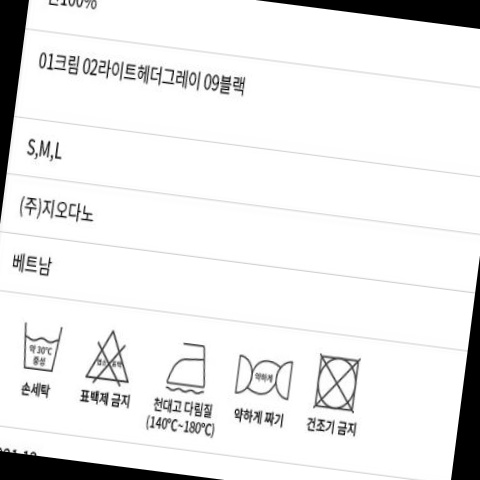30C: (15, 315, 71, 376)
DN_tumble_dry: (306, 346, 370, 417)
iron: (228, 347, 302, 402), (159, 331, 218, 398)
non_chlorine_bleach: (81, 321, 144, 390)
